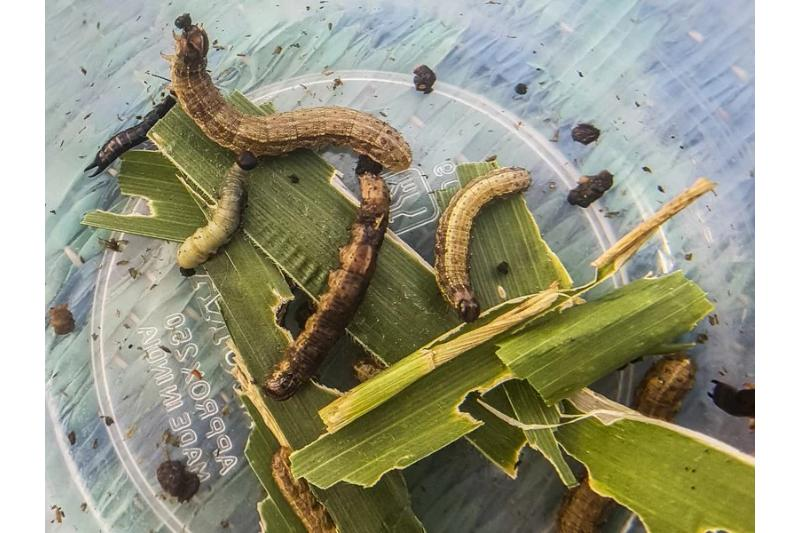fall-armyworm: (163, 26, 414, 173), (265, 174, 392, 403), (546, 350, 701, 533), (435, 169, 532, 323), (178, 164, 248, 270)
